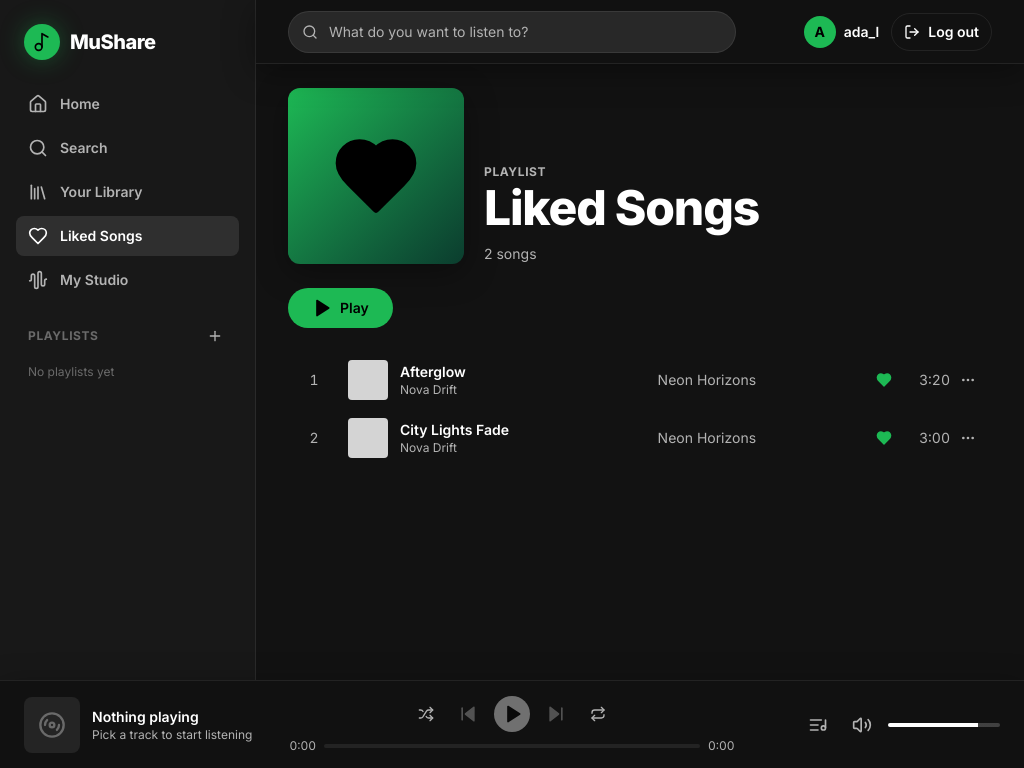
Test: favorites › removes a track from Liked Songs when unliked there
Expected: the list named "Liked songs" is shown, [288,352,992,466]
Click the button named "Save Afterglow to Liked Songs" at (884, 380), box [868,364,900,396]
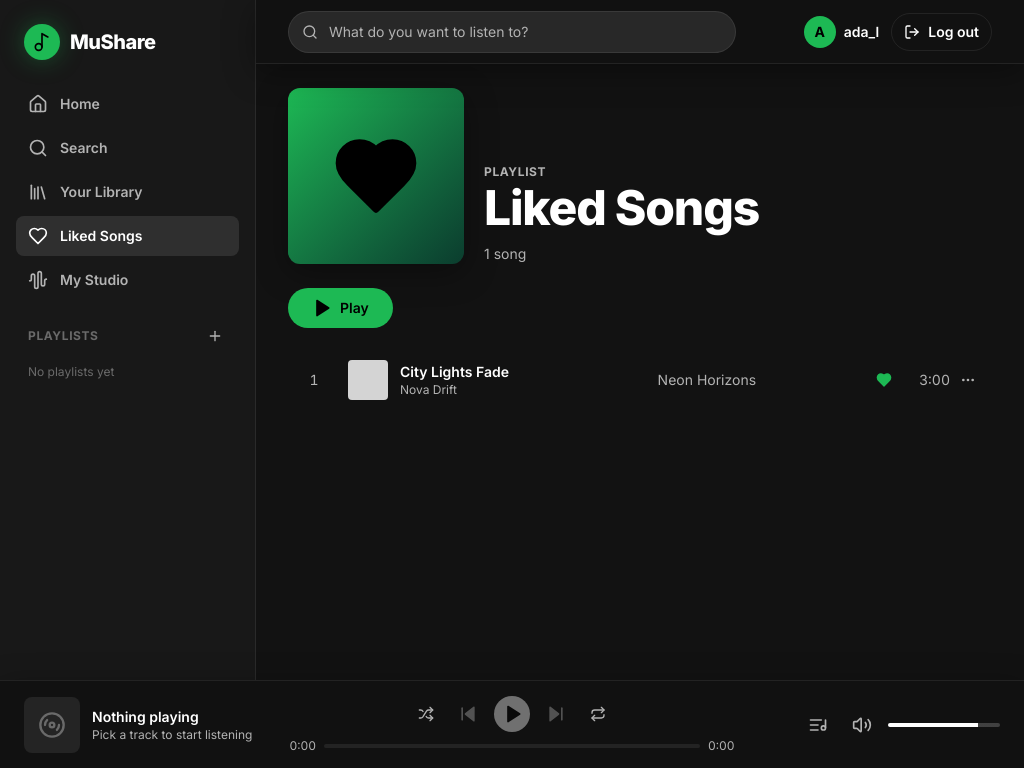
Expected: the text "City Lights Fade" is shown, [400,362,509,382]
Expected: the text "Afterglow" is gone
